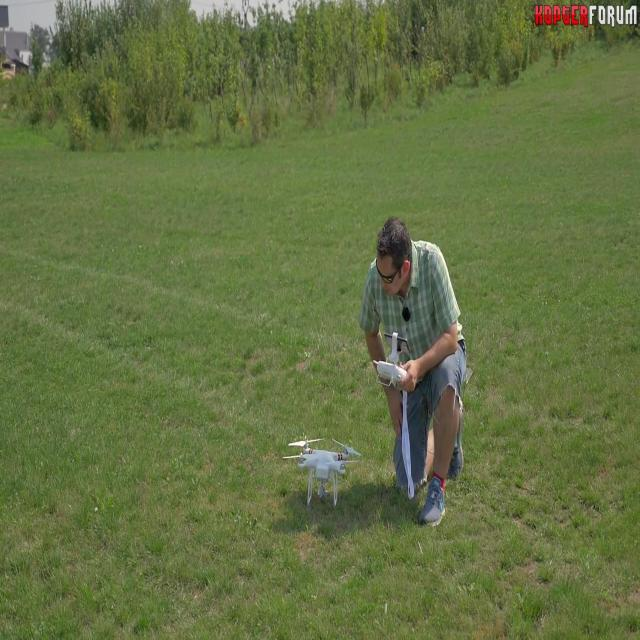drones: (279, 419, 367, 515)
